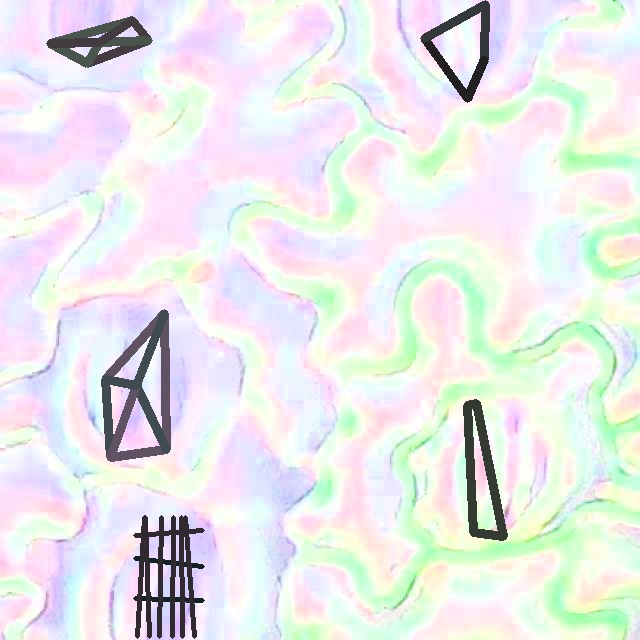close: (463, 399, 507, 536)
open: (101, 309, 170, 461), (133, 515, 204, 638), (421, 1, 487, 102), (46, 16, 152, 67)
